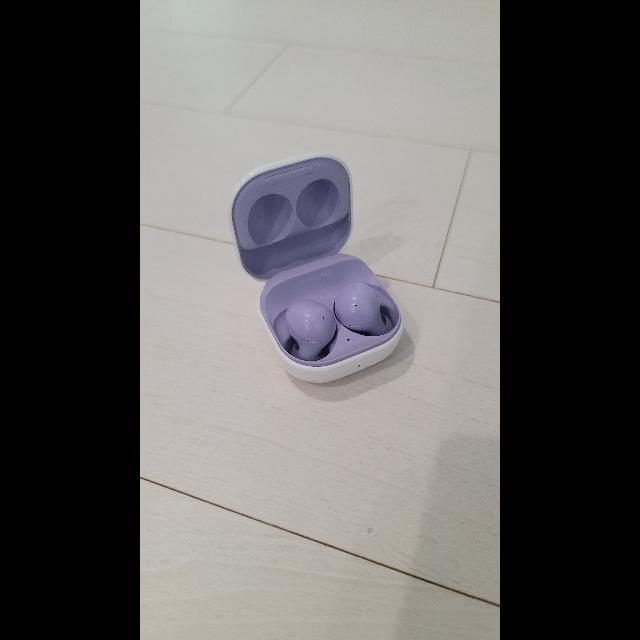GALAXY-BUDS-2: (231, 155, 402, 382)
